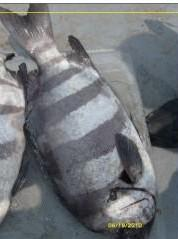fish: (0, 1, 157, 232)
